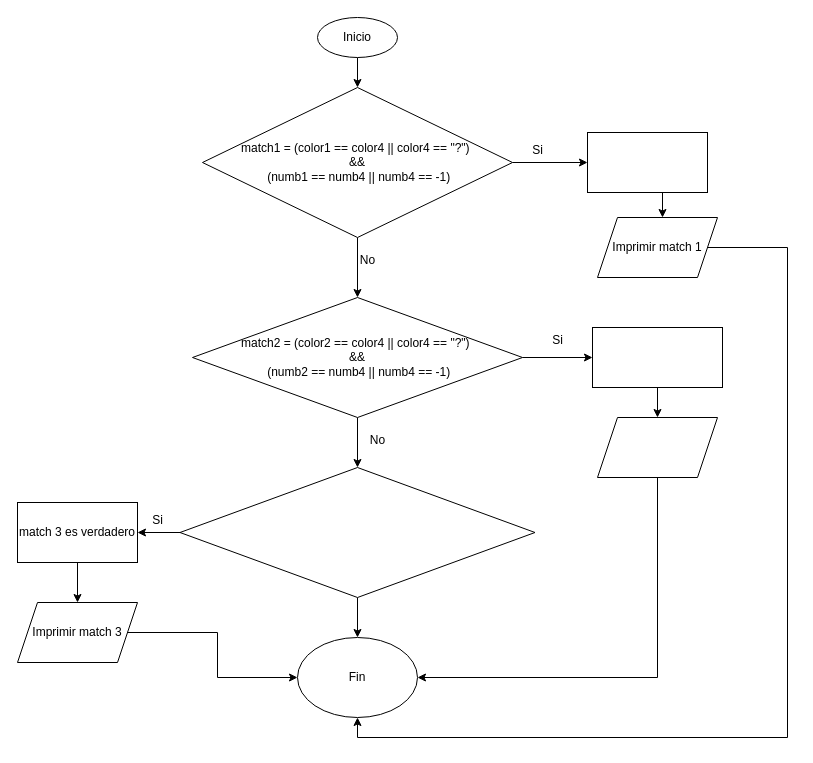
This 813x763 diagram has some shape labels left out. Each missing label, with the box of its shape:
Imprimir match 2: (596, 416, 718, 478)
match 2 es verdadero: (592, 326, 722, 388)
match1 es verdadero: (586, 132, 708, 192)
match3 = (color3 == color4 || color4 == "?") && (numb3 == numb4 || numb4 == -1): (179, 466, 535, 598)
